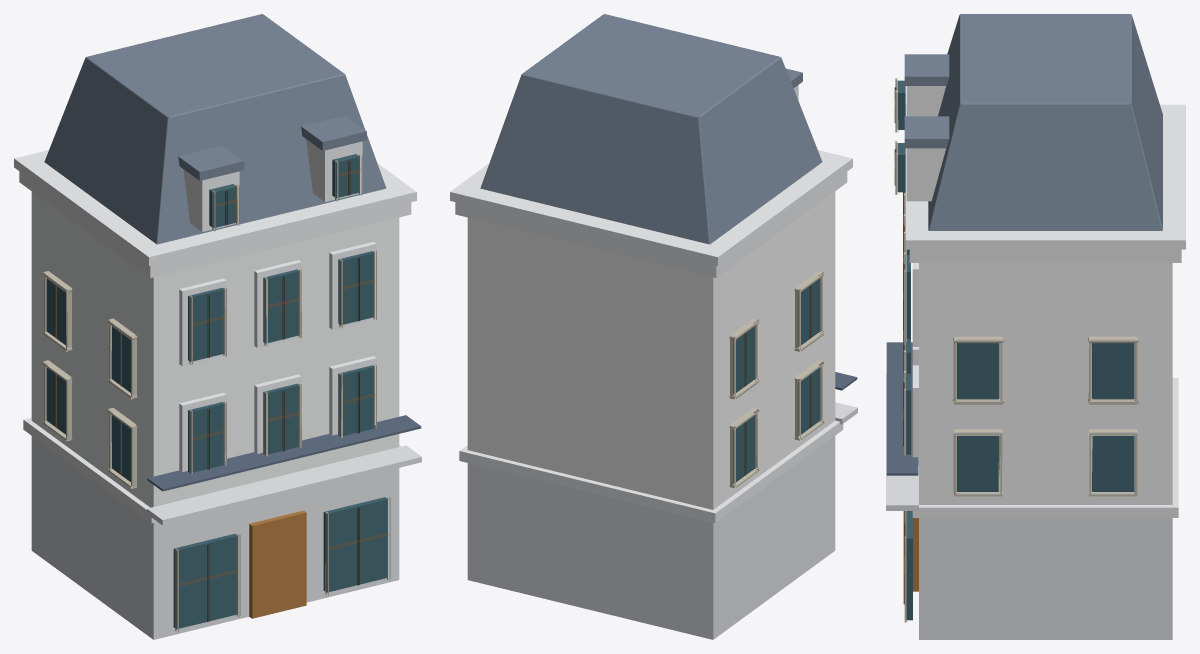
Rendered from city_runtime_01.glb.
3 views of the same model, side by side, from view 1: azimuth 30°, elevation 25°; view 2: azimuth 150°, elevation 25°; view 3: azimuth 270°, elevation 25° (orthographic). The views are drawn at different scales.
Visible parts, largest first — view 1: Exterior architecture detail 1; view 2: Exterior architecture detail 1; view 3: Exterior architecture detail 1.
Boxes of the visible parts, box(x1,y1,x2,y2) form: Exterior architecture detail 1: box(14, 14, 421, 639); Exterior architecture detail 1: box(450, 14, 857, 639); Exterior architecture detail 1: box(886, 14, 1185, 639).
Bounding box in the file's own units: 7.85 × 14 × 7.33.
